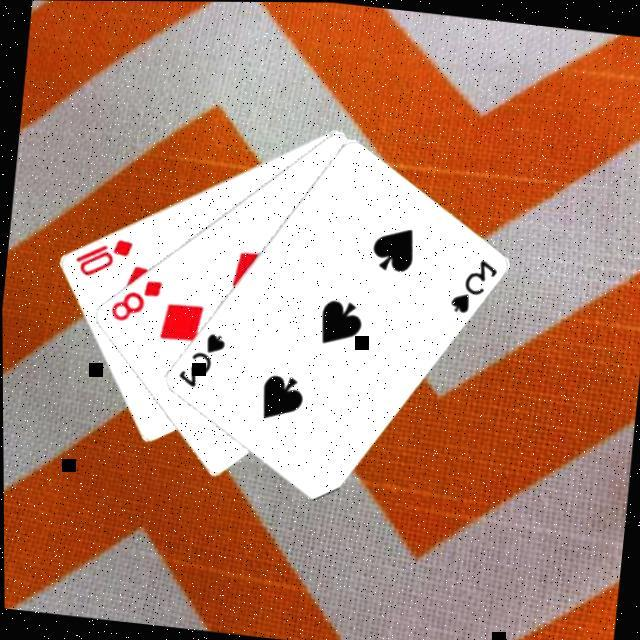10D: (70, 230, 136, 282)
3S: (174, 324, 230, 392), (446, 251, 502, 318)
8D: (106, 272, 166, 326)
